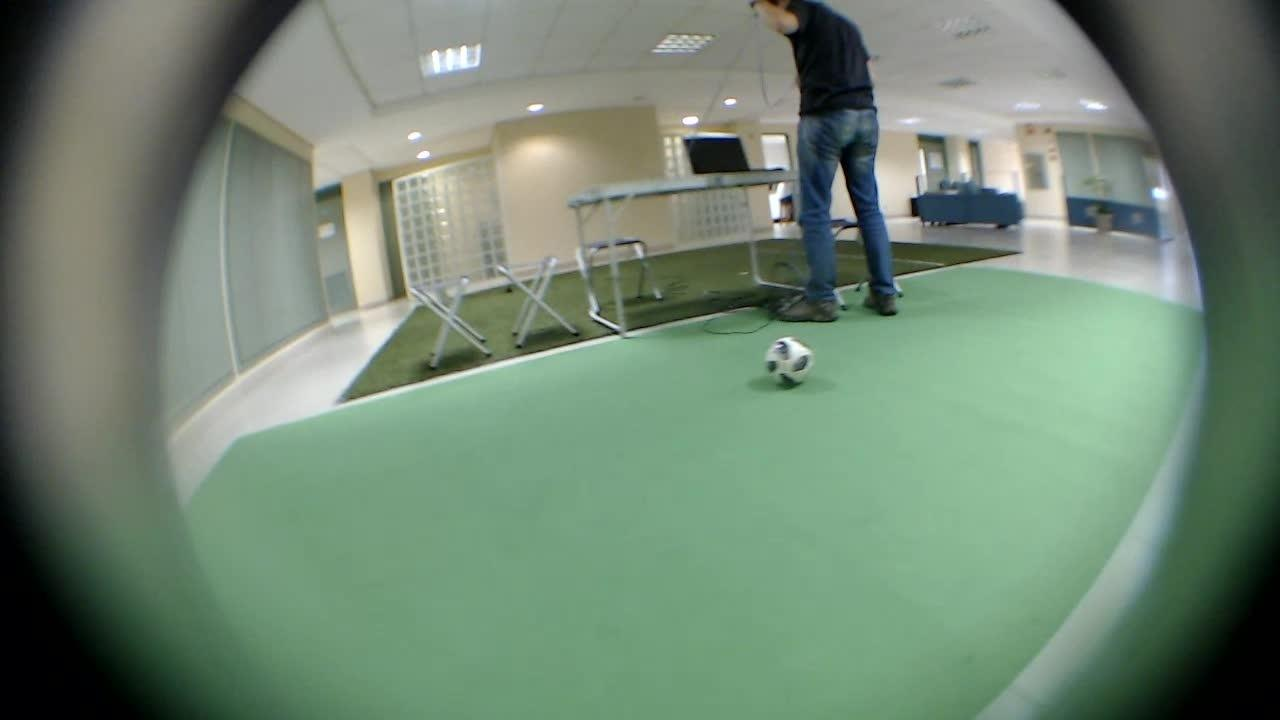ball: (752, 320, 823, 392)
